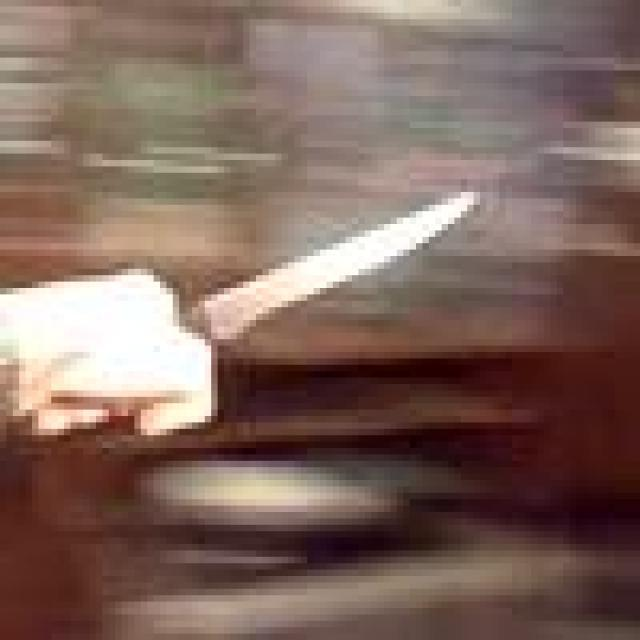faca: (0, 160, 538, 467)
